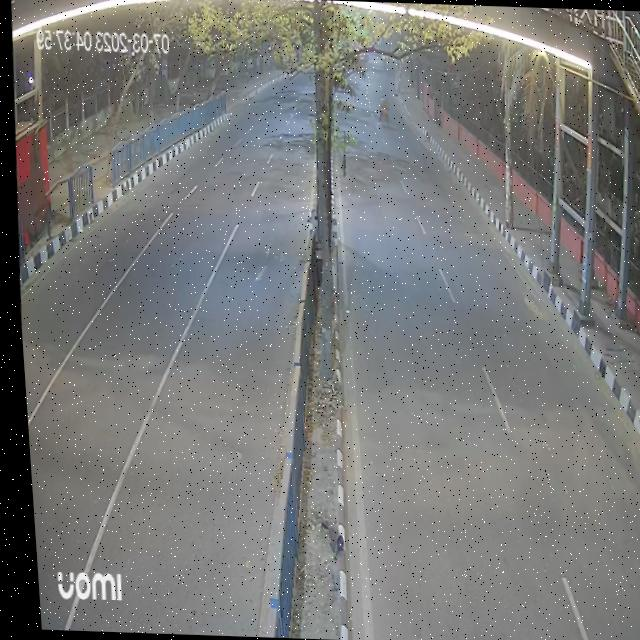rikshaw: (373, 91, 390, 129)
